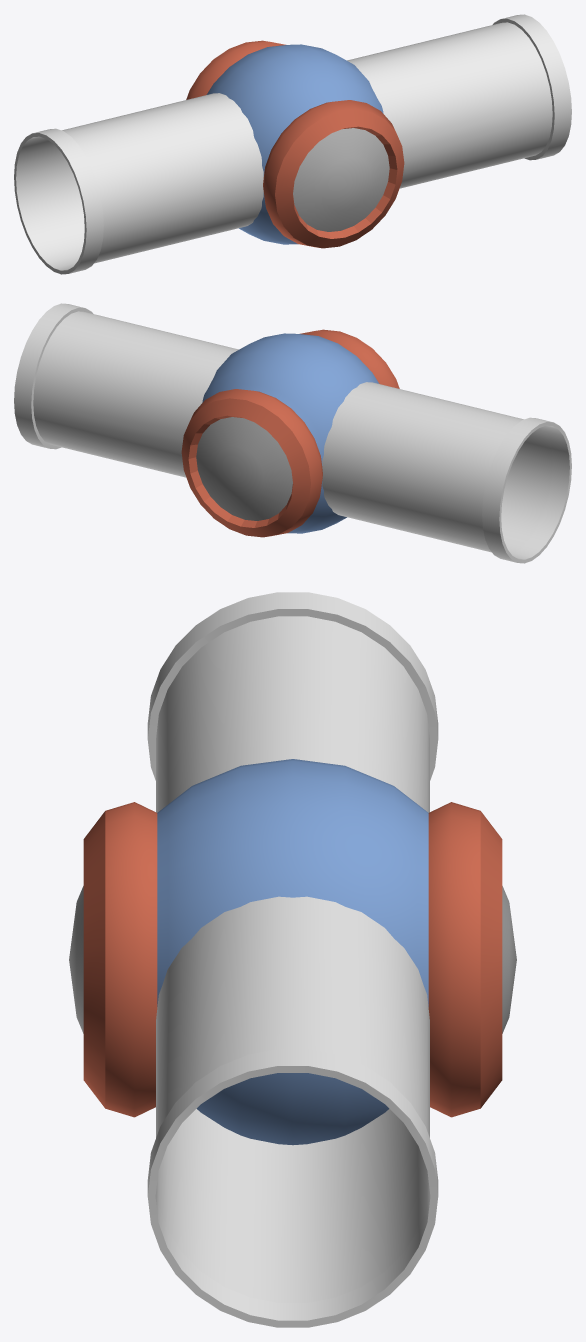
The model's file is Flex_Pipe.fbx.
The picture shows the model from 3 angles, top to bottom: view 1: azimuth 30°, elevation 25°; view 2: azimuth 150°, elevation 25°; view 3: azimuth 270°, elevation 25°; orthographic projection. The views are drawn at different scales.
Parts seen in each view (by area): view 1: mit_3, Sphere001, flex_pipe; view 2: mit_3, Sphere001, flex_pipe; view 3: flex_pipe, Sphere001, mit_3.
Part boxes in pixels (left/top/right/bottom): mit_3: left=14, top=93, right=263, bottom=274; Sphere001: left=186, top=40, right=404, bottom=248; flex_pipe: left=347, top=14, right=571, bottom=188; mit_3: left=322, top=382, right=571, bottom=563; Sphere001: left=181, top=329, right=399, bottom=537; flex_pipe: left=14, top=303, right=238, bottom=477; flex_pipe: left=147, top=896, right=438, bottom=1327; Sphere001: left=69, top=759, right=516, bottom=1145; mit_3: left=147, top=592, right=438, bottom=812.
Bounding box in the file's own units: 254 × 91.44 × 102.
